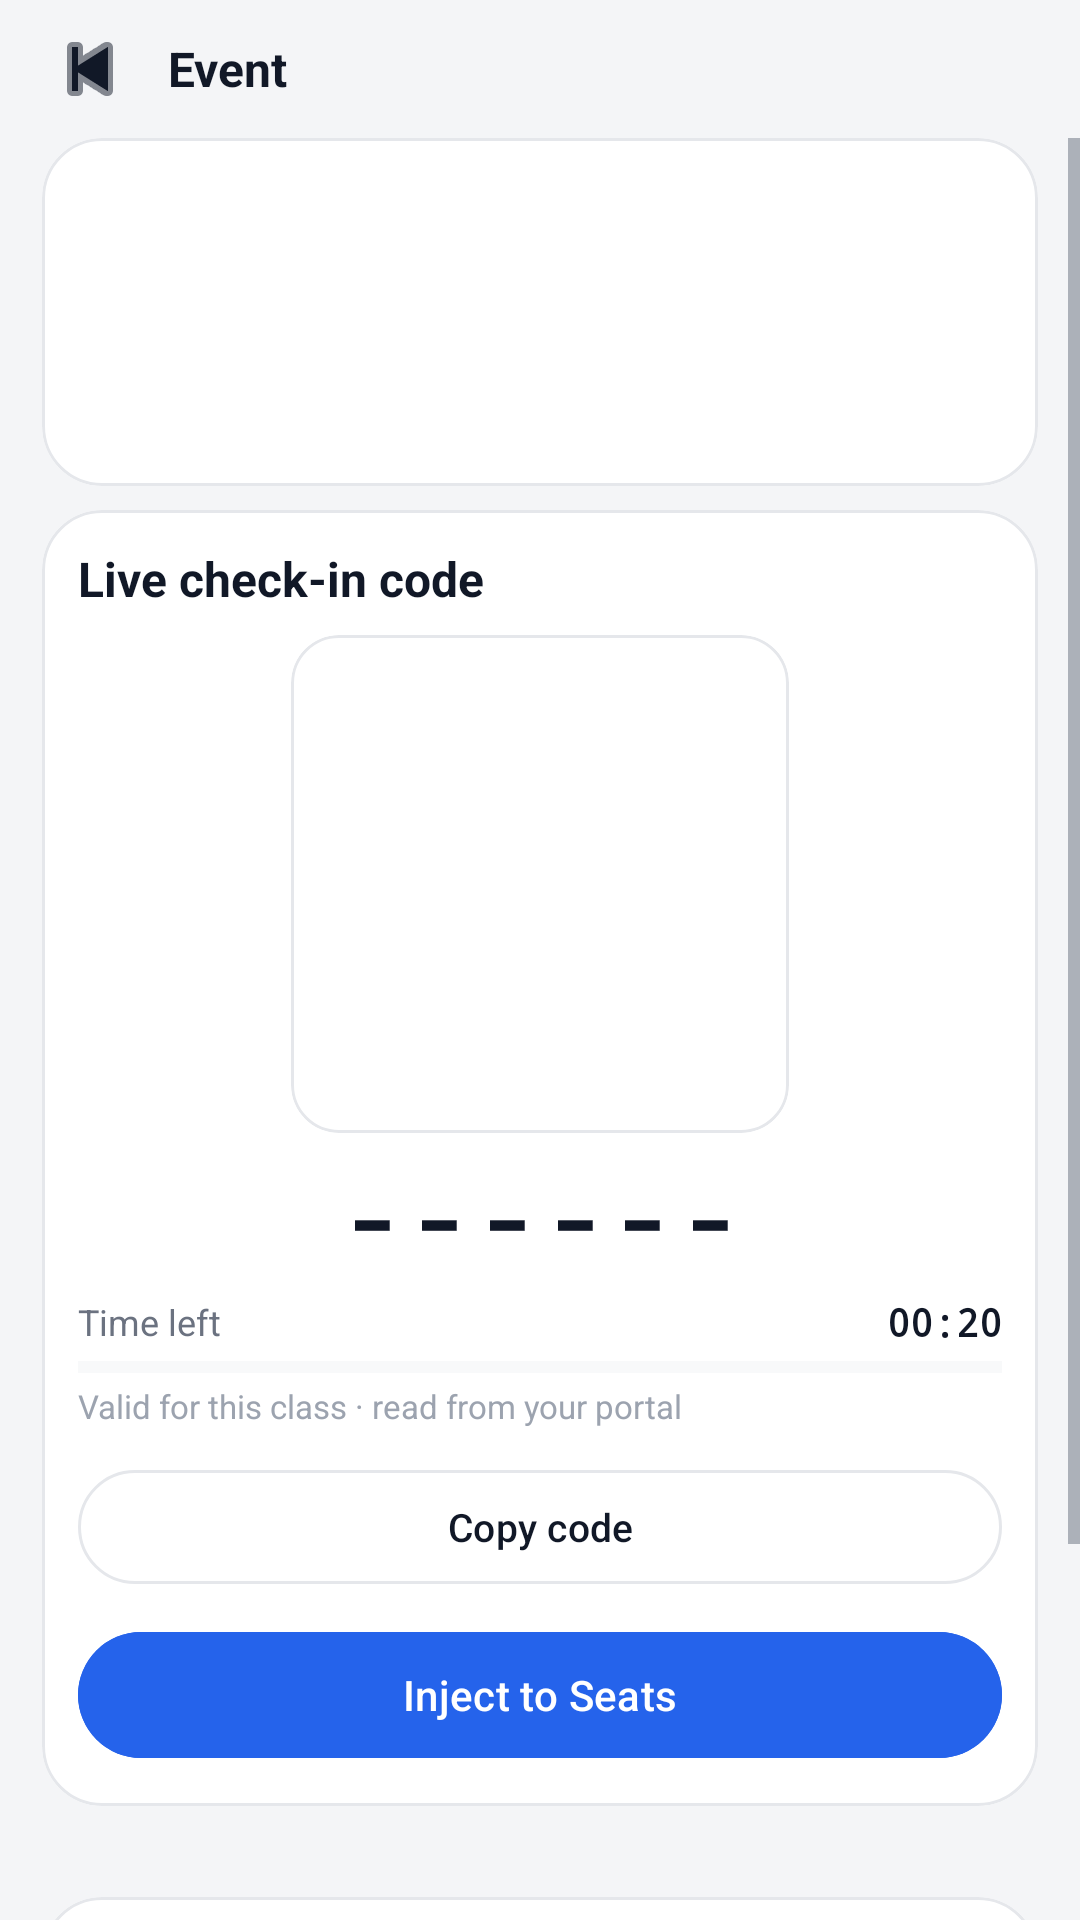

Icons on this 1080 x 1920 Android screen, each with its box as [x1, y1, x2, y2]:
Back: [67, 42, 113, 96]
